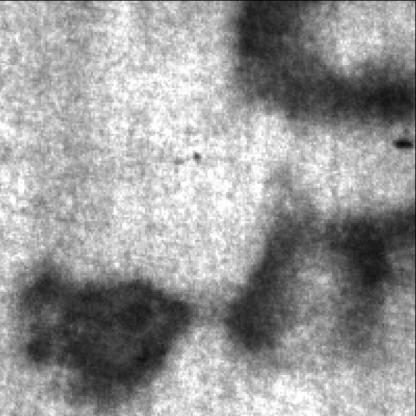patches: (16, 278, 192, 404), (235, 4, 410, 129), (218, 206, 318, 364), (322, 204, 414, 362)
